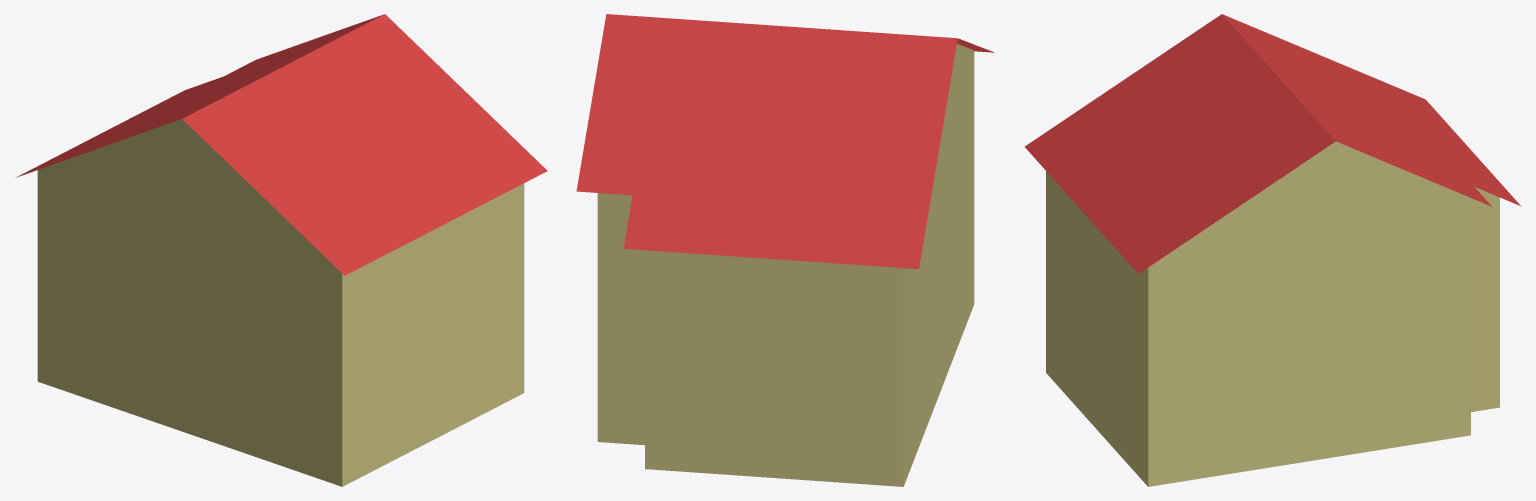
The picture shows the model from 3 angles, left to right: view 1: azimuth 30°, elevation 25°; view 2: azimuth 150°, elevation 25°; view 3: azimuth 270°, elevation 25°; orthographic projection. The views are drawn at different scales.
Size of the model in its own units: 13.47 by 14.78 by 10.6.
